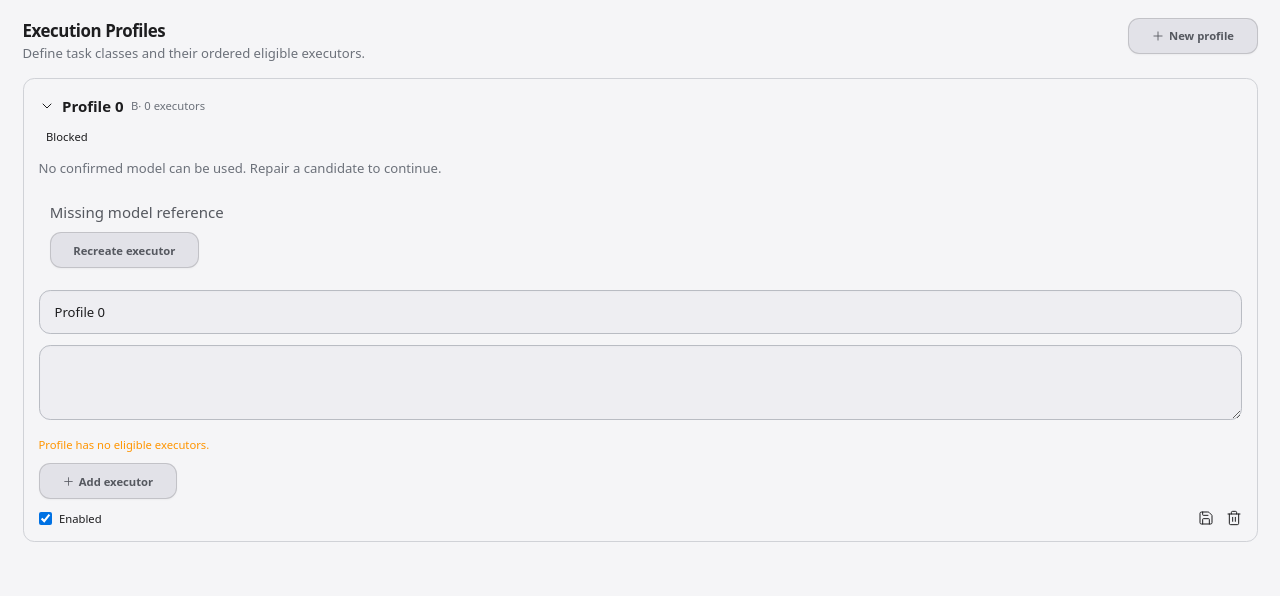
Scenario: execution profile repair routing and attention › grouped Antigravity requires explicit supported effort
This screenshot has width=1280, height=596.
Click the button "Recreate executor" at (124, 250), box x1=50 y1=232 x2=199 y2=268
(page scrolled)
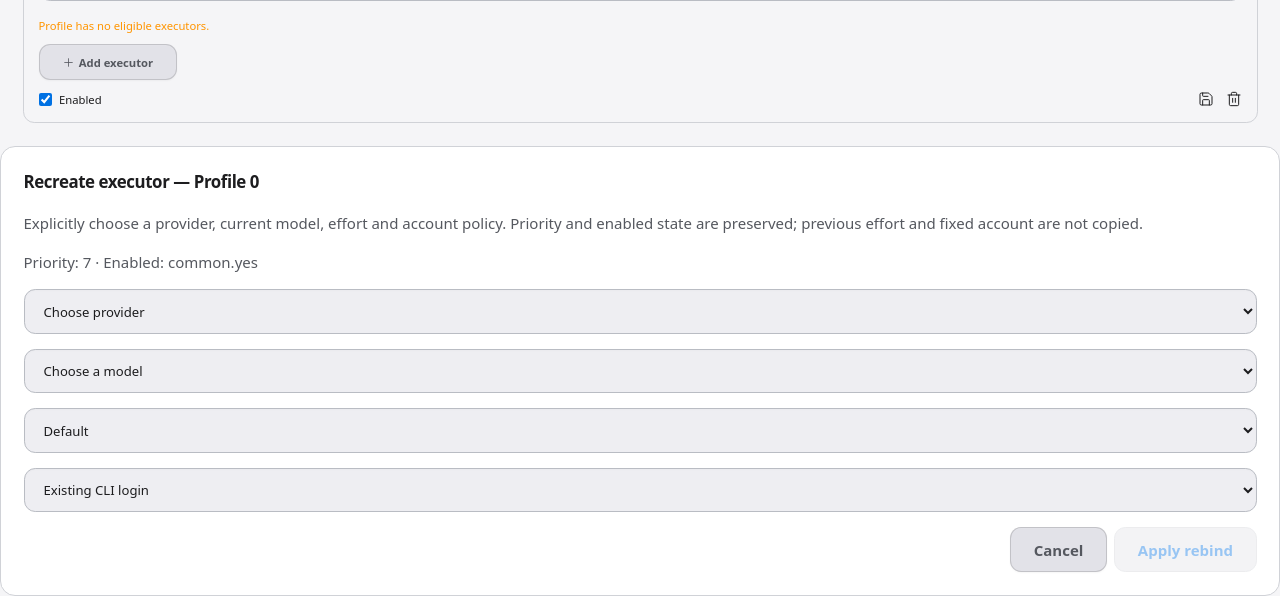
Select "antigravity" in the dropdown named "Agent" at (640, 312), box x1=24 y1=289 x2=1256 y2=334
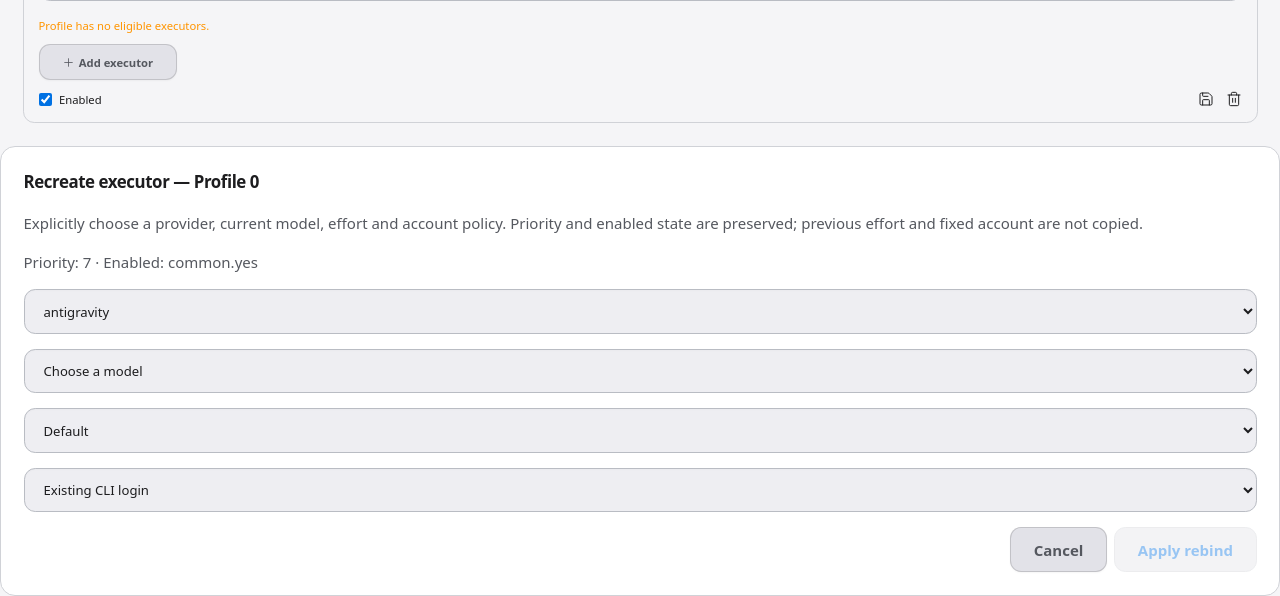
Select "Grouped model (group)" in the dropdown named "Replacement model" at (640, 371), box x1=24 y1=349 x2=1256 y2=393
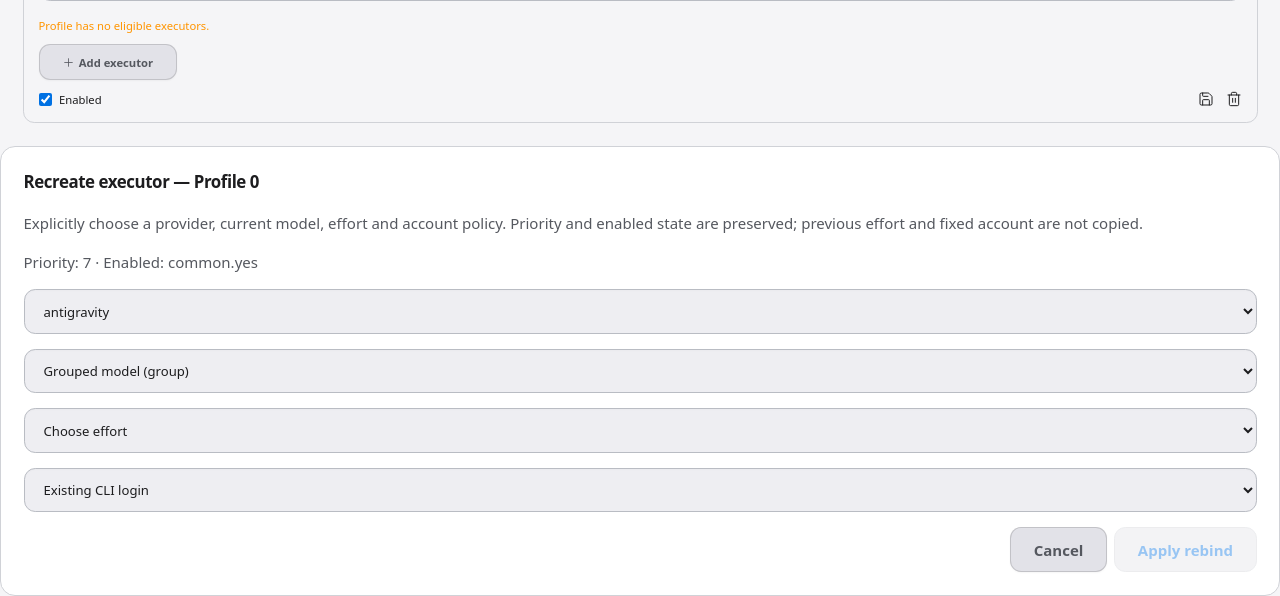
Result: the button "Apply rebind" is disabled at x1=1114 y1=527 x2=1256 y2=572
Select "high" in the dropdown named "Effort" at (640, 431), box x1=24 y1=408 x2=1256 y2=453
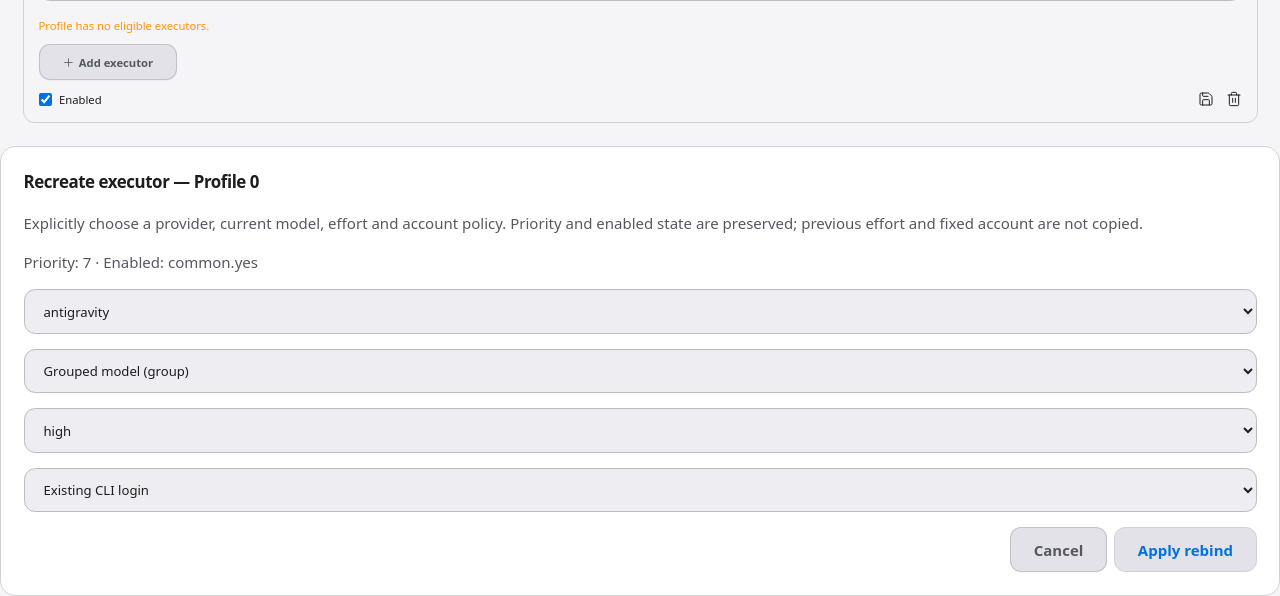
Result: the button "Apply rebind" is enabled at x1=1114 y1=527 x2=1256 y2=572
